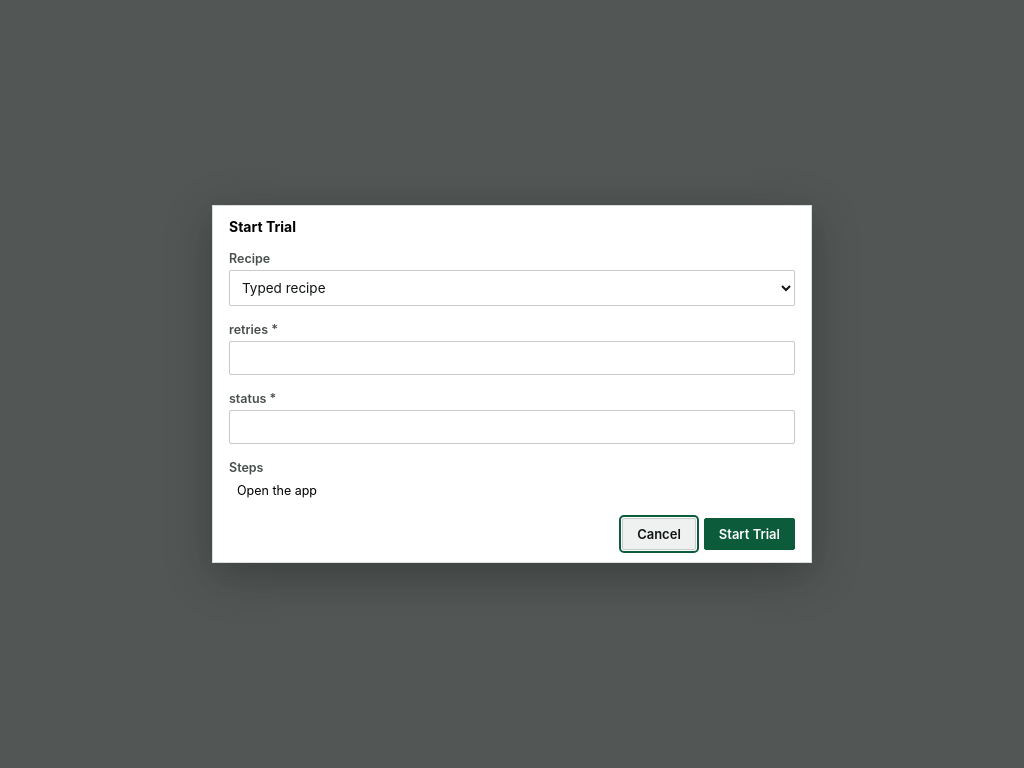
it: StartRecipeJobModal › rejects a value outside a field's declared enum
The image size is (1024, 768).
Step 1. Type "3" into the field labelled "retries *" → [512, 358], box [229,341,795,375]
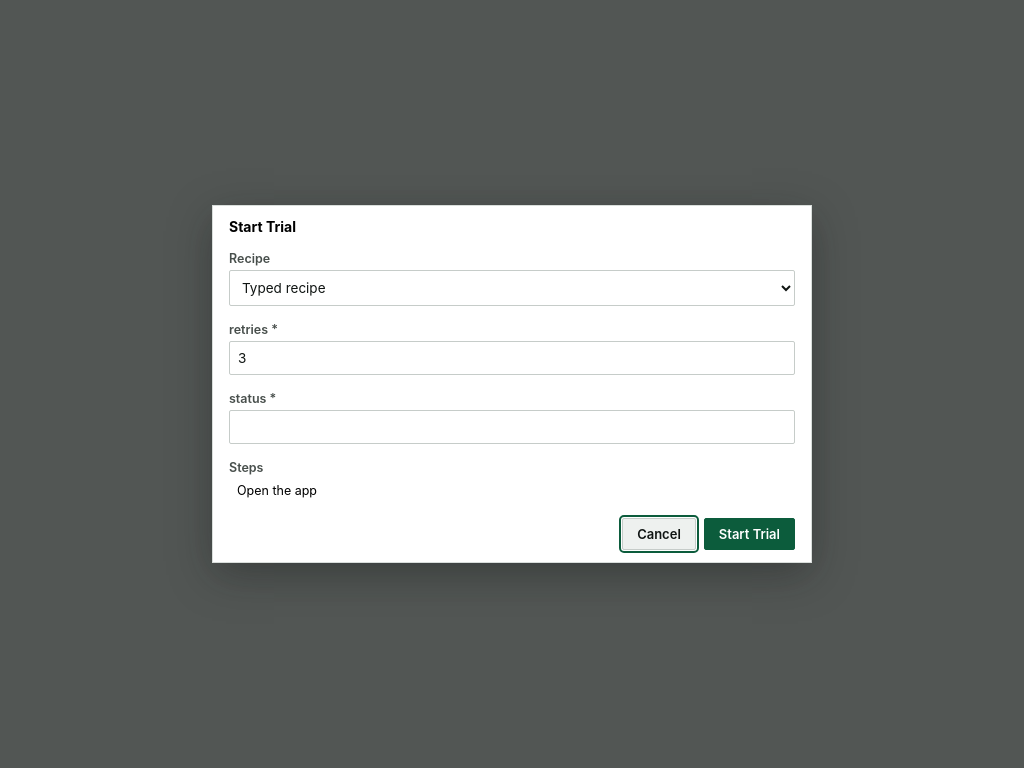
Step 2. Type "bogus" into the field labelled "status *" → [512, 427], box [229,410,795,444]
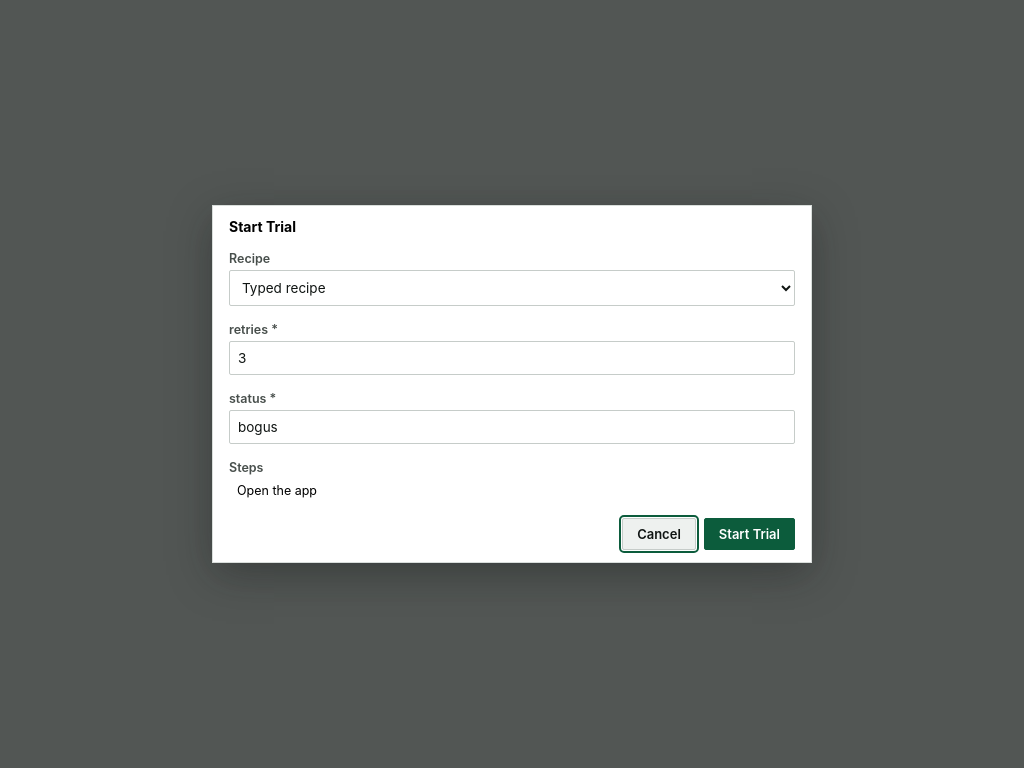
Step 3. Click the button "Start Trial" → [749, 534], box [704,518,795,550]
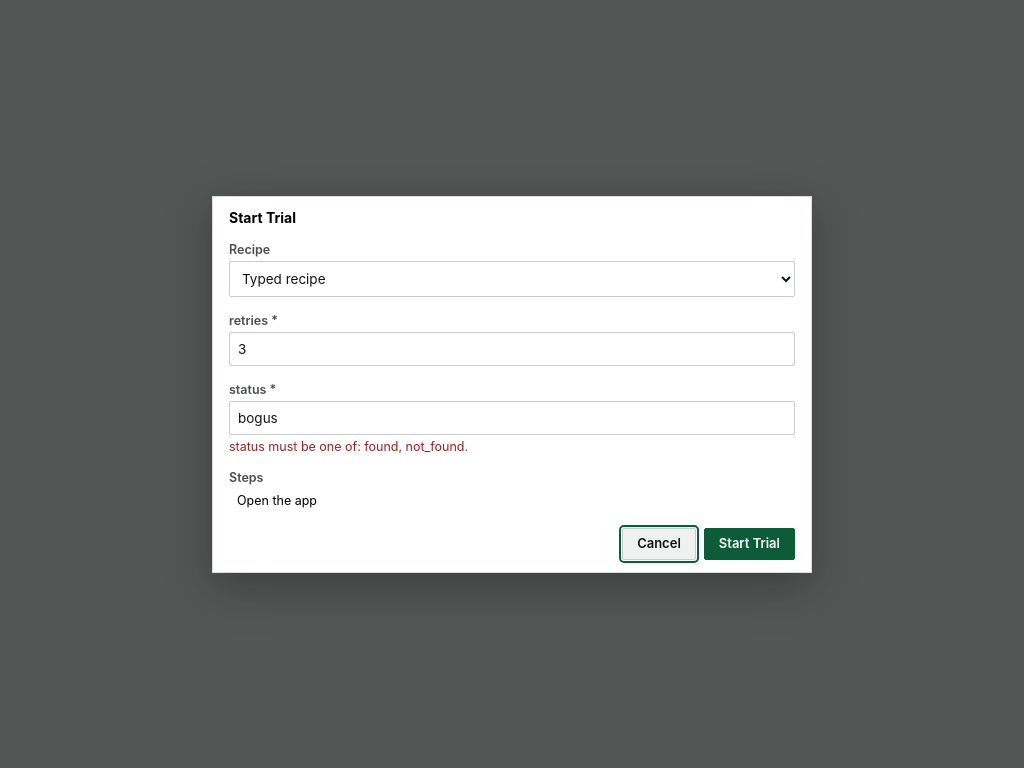
Result: the text "status must be one of: found, not_found." is shown at [229,438,468,454]
